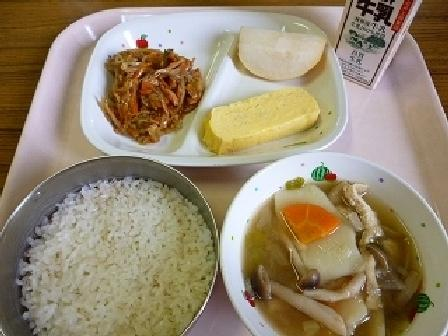Apple: (228, 13, 341, 87)
Milk: (327, 0, 430, 81)
Rice: (6, 154, 210, 335)
Soups: (225, 159, 445, 335)
egg product: (194, 74, 325, 162)
vegetable based cooked food: (102, 36, 213, 148)
